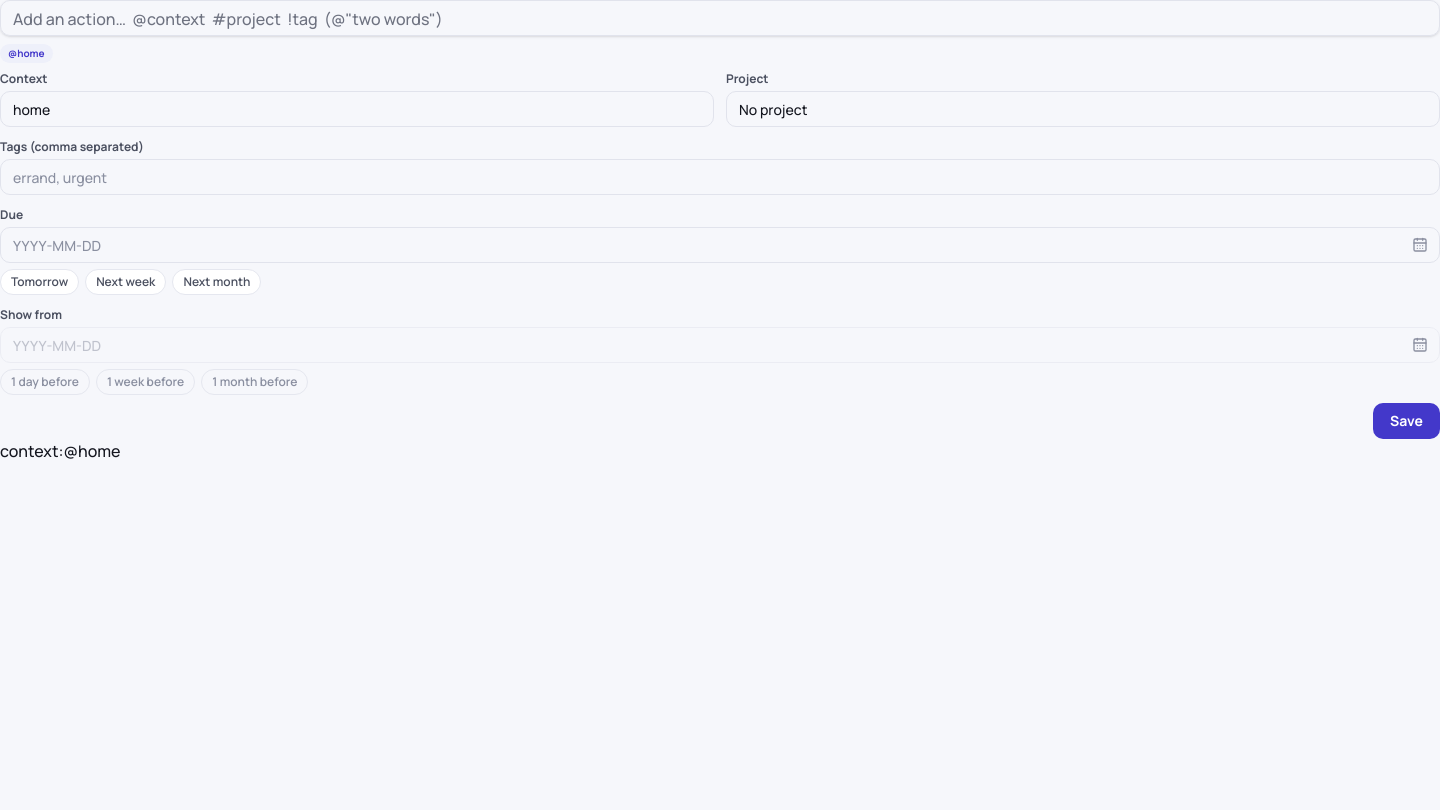
clearing a field in one tap › takes the action out of the project
The image size is (1440, 810).
Check: the list item "context:@home" is shown, box [0,440,120,462]
Click the field labelled "Project" at (1083, 109), box [726,91,1439,127]
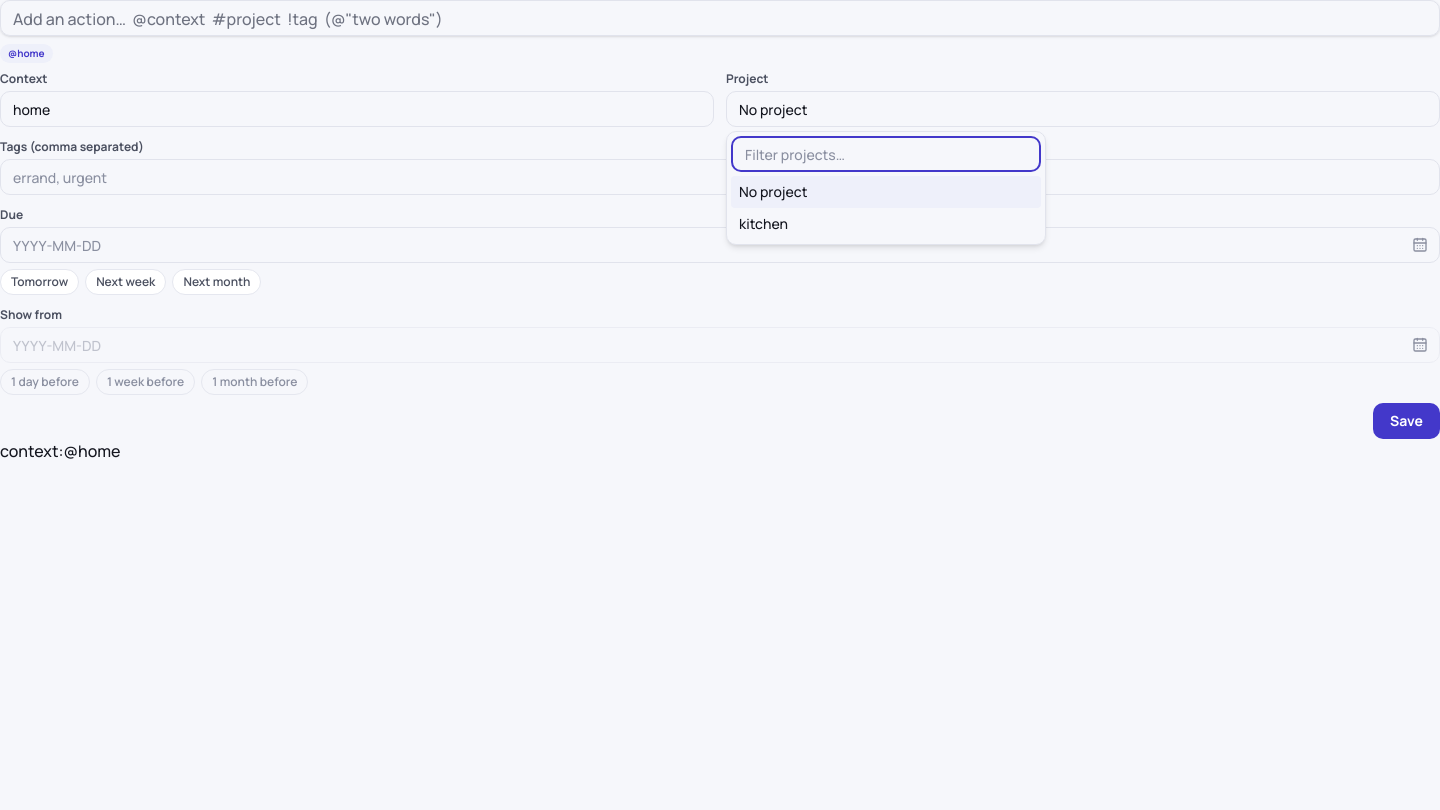
Click the button "kitchen" at (763, 224), box [731,208,1041,240]
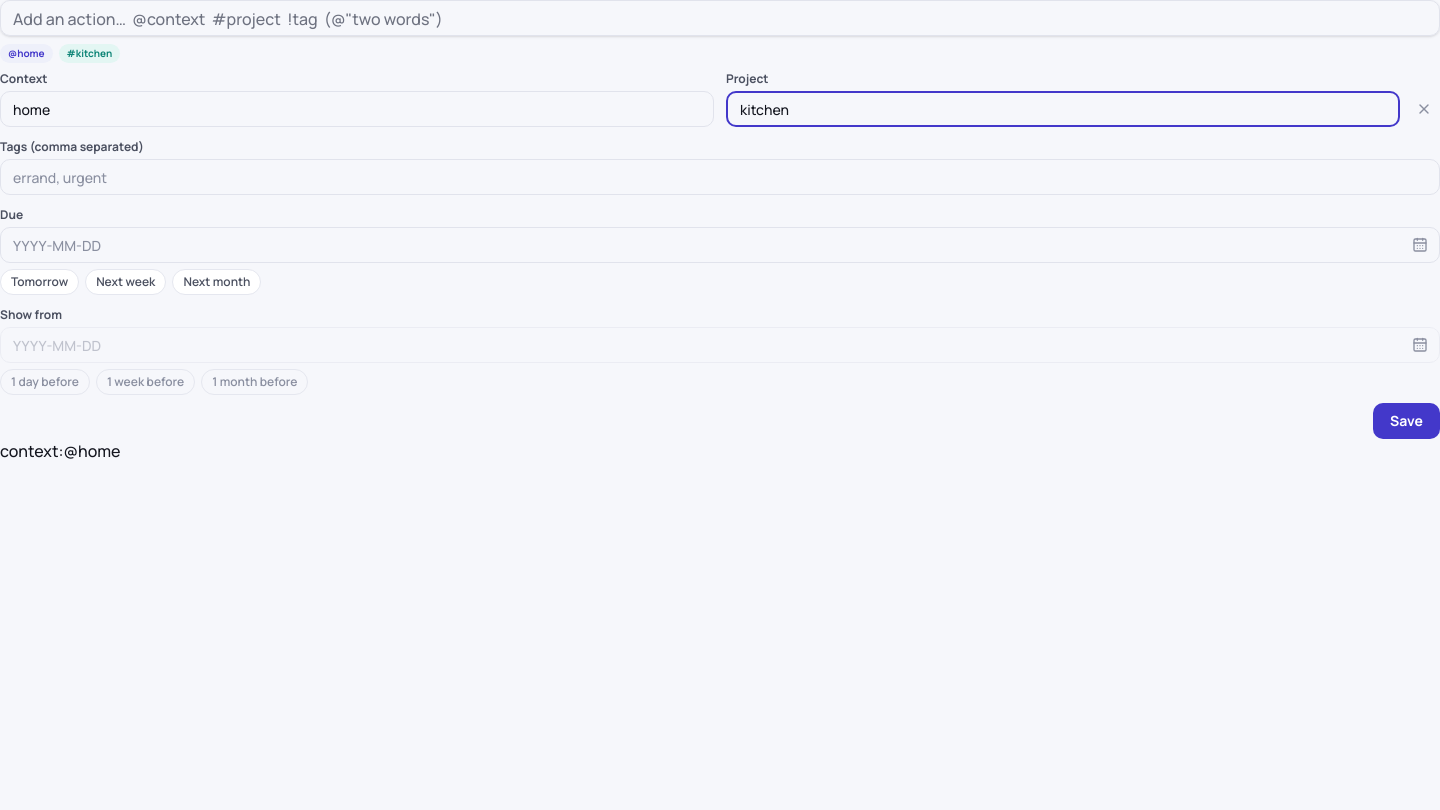
Check: the field labelled "Project" holds "kitchen", box [726,91,1400,127]
Click the button named "Clear the project" at (1424, 109), box [1408,93,1439,125]
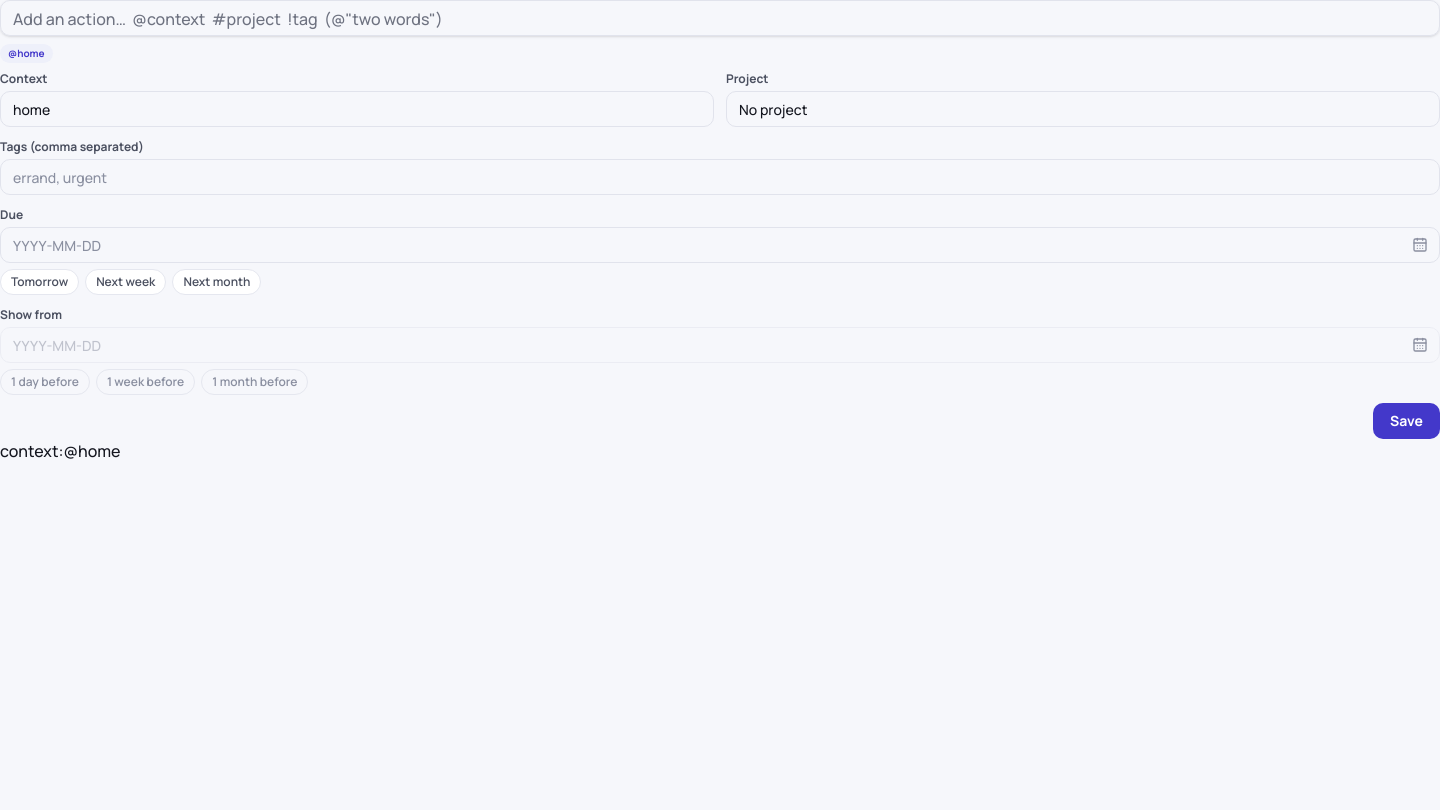
Check: the field labelled "Project" holds "No project", box [726,91,1439,127]
